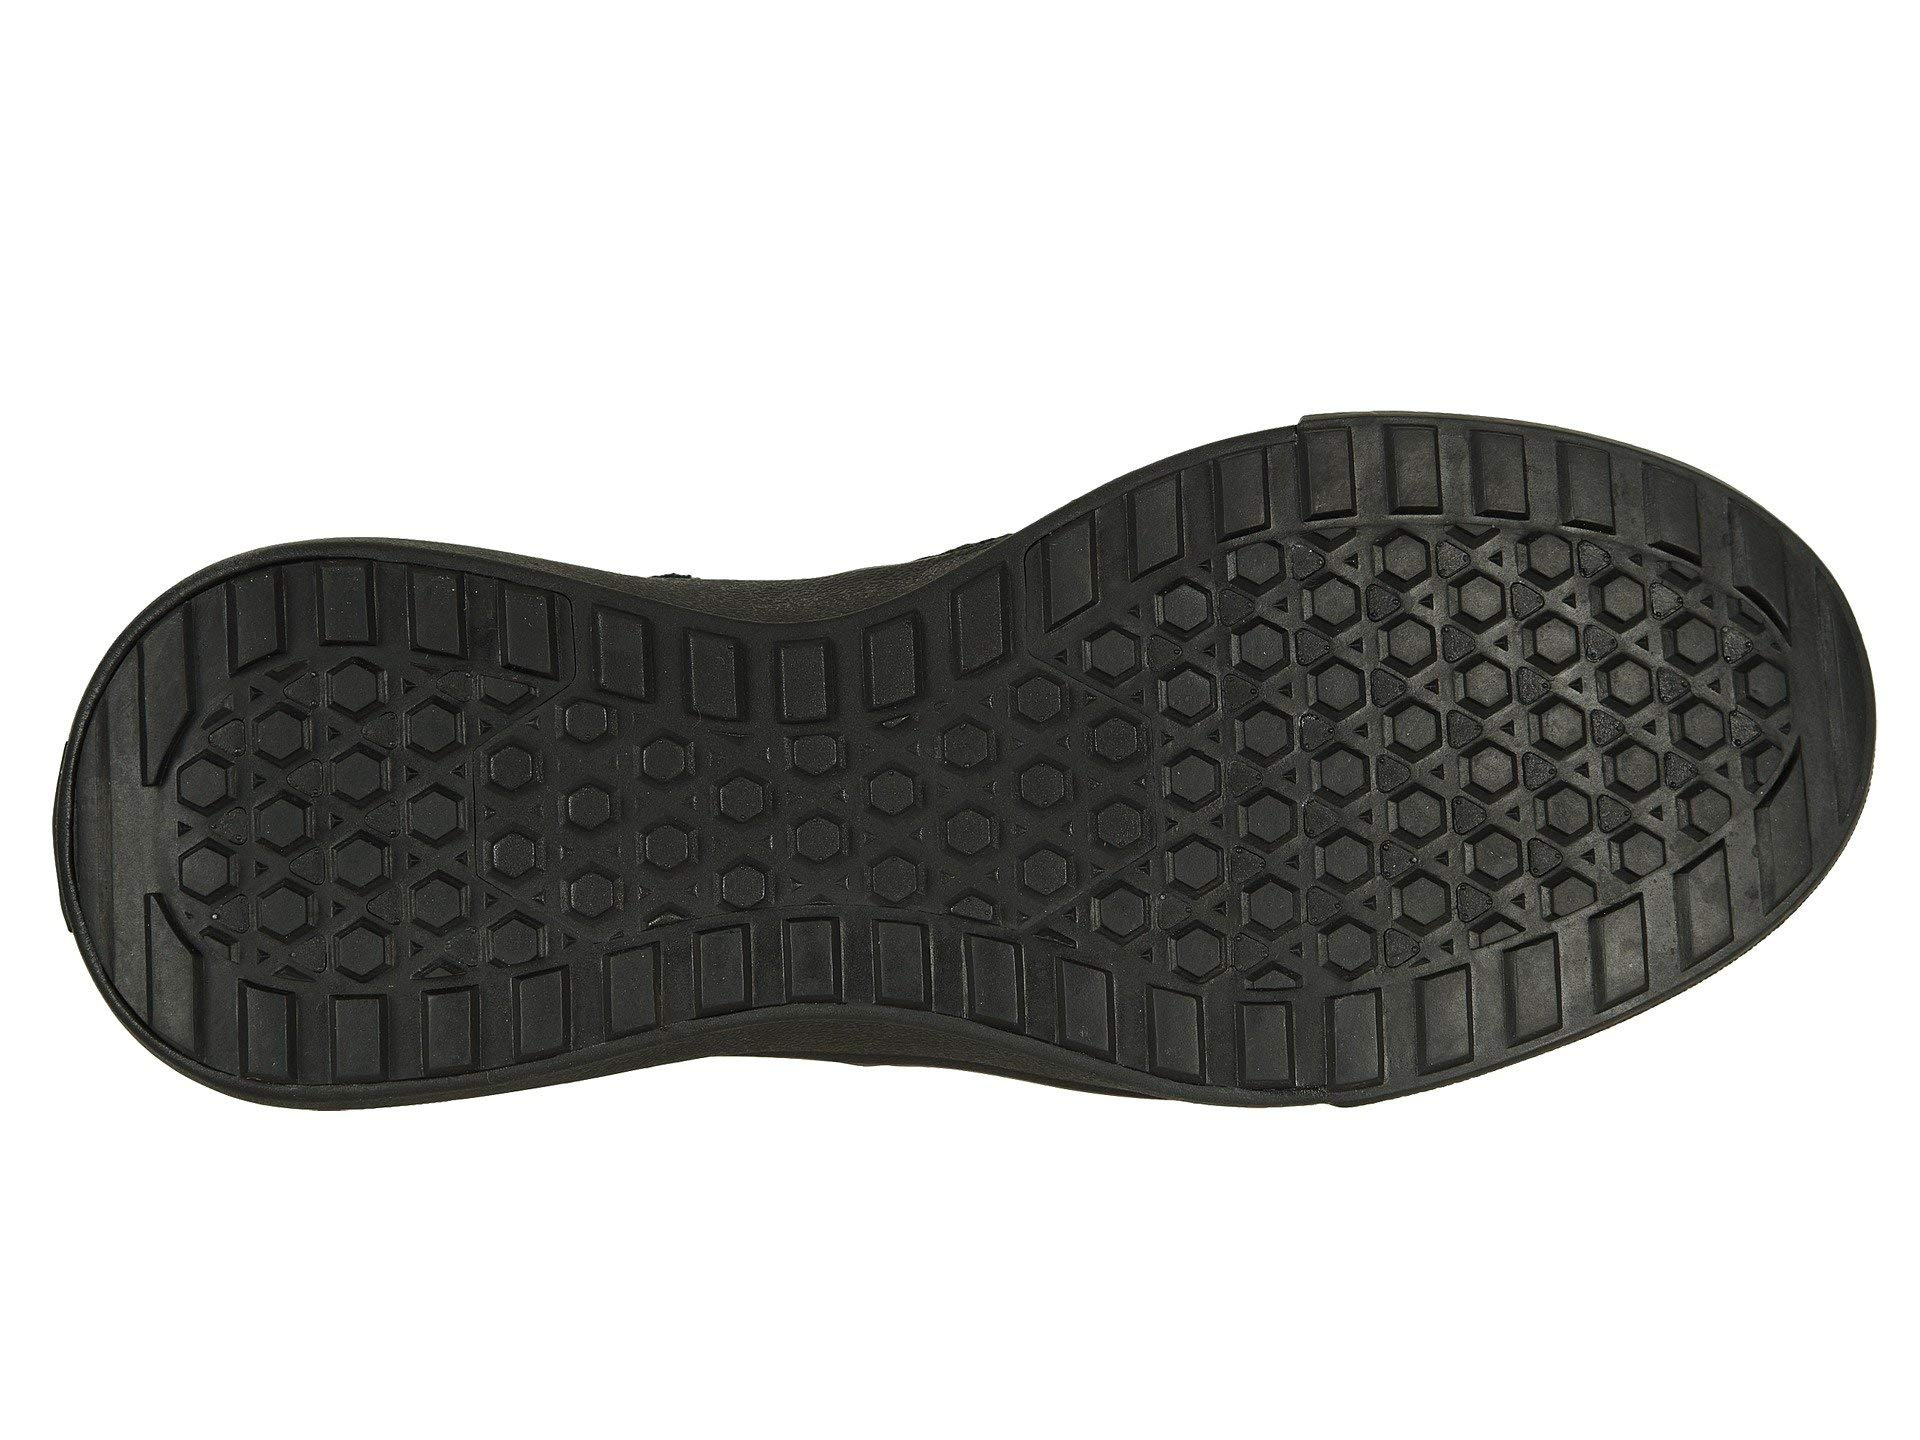polygon: (213, 675, 599, 1078), (1435, 545, 1717, 846), (1225, 529, 1407, 715), (853, 755, 1011, 927)
quad: (213, 675, 599, 1078), (853, 755, 1011, 927)
triangle: (213, 675, 599, 1078), (1435, 545, 1717, 846), (1225, 529, 1407, 715), (853, 755, 1011, 927)
